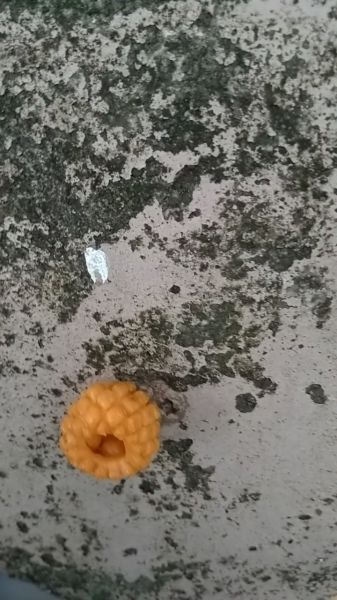eggs: (50, 374, 168, 483)
